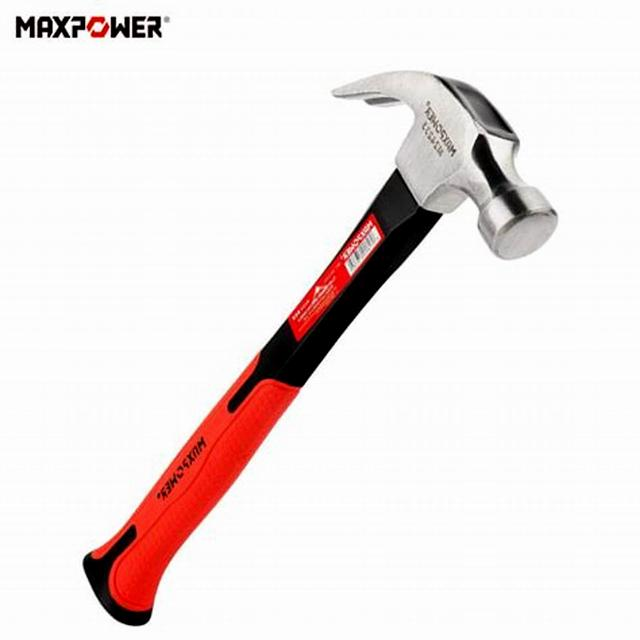hammer: (74, 63, 566, 629)
